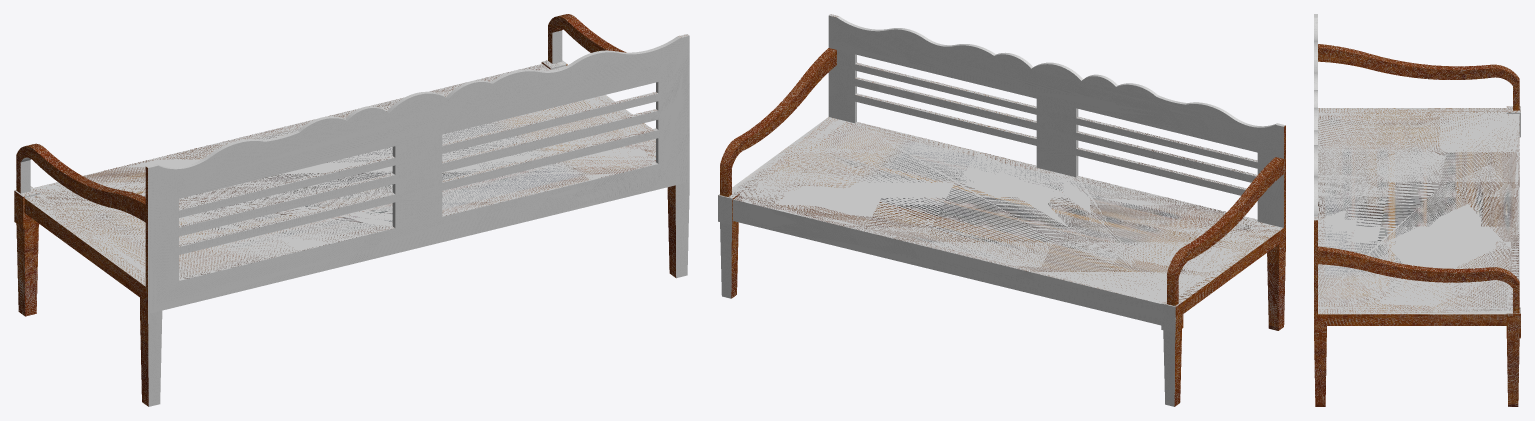
3 views of the same model, side by side, from view 1: azimuth 30°, elevation 25°; view 2: azimuth 150°, elevation 25°; view 3: azimuth 270°, elevation 25° (orthographic). The views are drawn at different scales.
Visible parts, largest first — view 1: mesh1_mesh1-geometry; view 2: mesh1_mesh1-geometry; view 3: mesh1_mesh1-geometry.
Part boxes in pixels (box(x1,y1,x2,y2)): mesh1_mesh1-geometry: box(14, 14, 689, 406); mesh1_mesh1-geometry: box(718, 14, 1285, 406); mesh1_mesh1-geometry: box(1314, 14, 1520, 406).
Bounding box in the file's own units: 0.8558 × 0.3709 × 0.3607.
